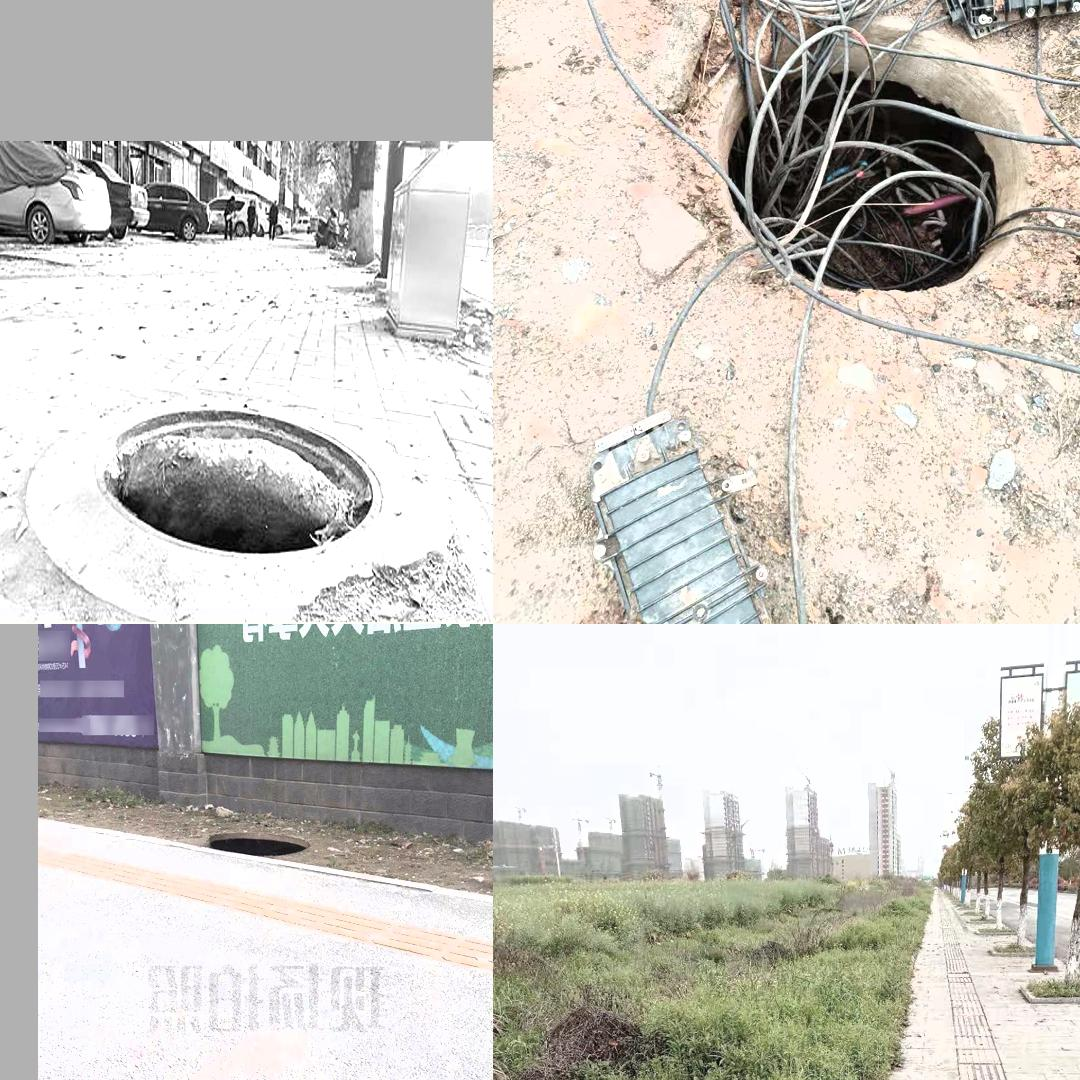lose: (40, 397, 449, 624), (707, 27, 1029, 292), (204, 830, 311, 860)
